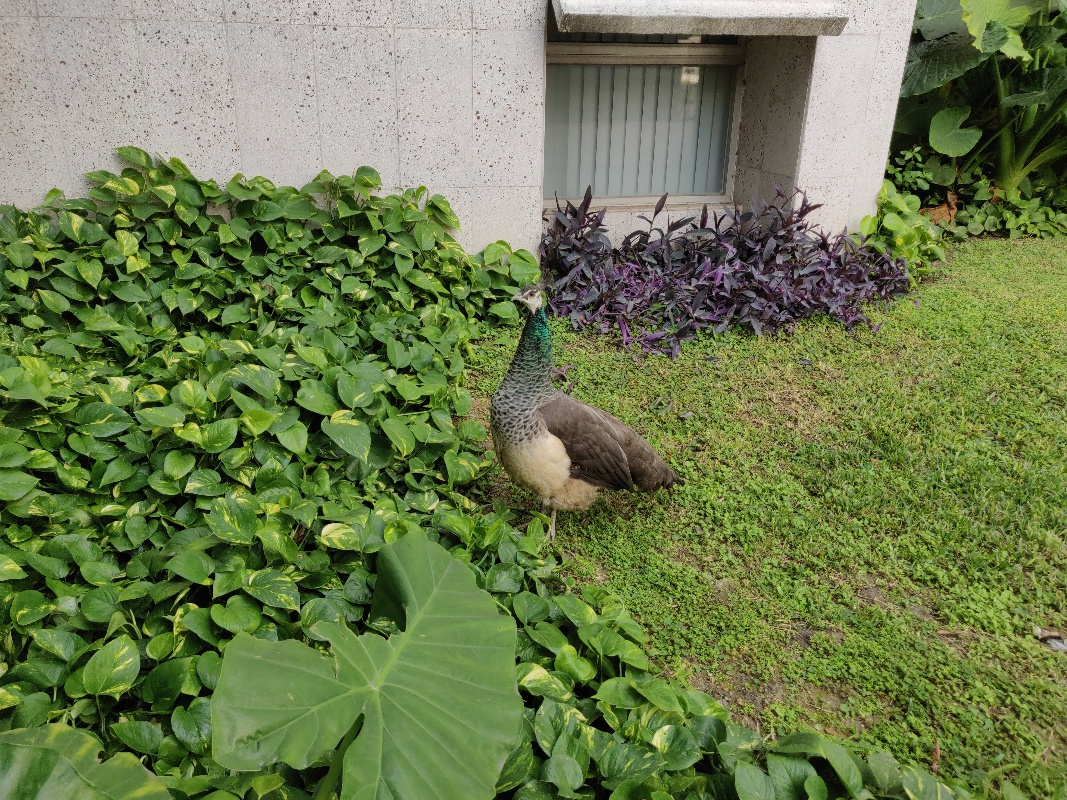pavoreal: (500, 283, 654, 522)
